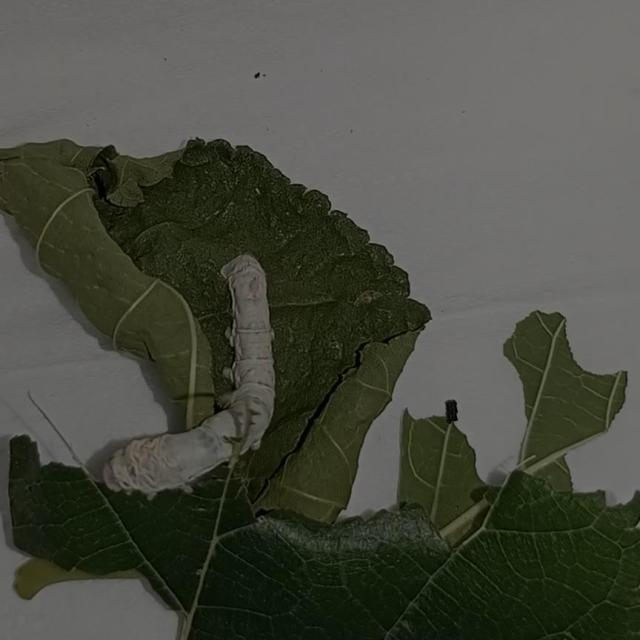Healthy: (92, 245, 286, 502)
